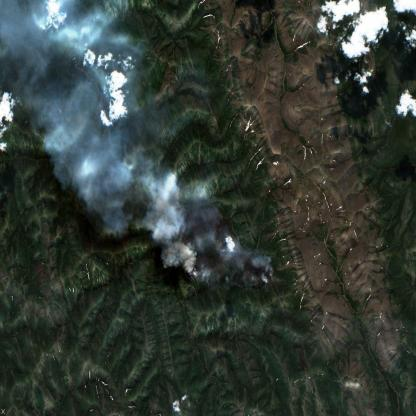fire: (171, 230, 272, 297)
